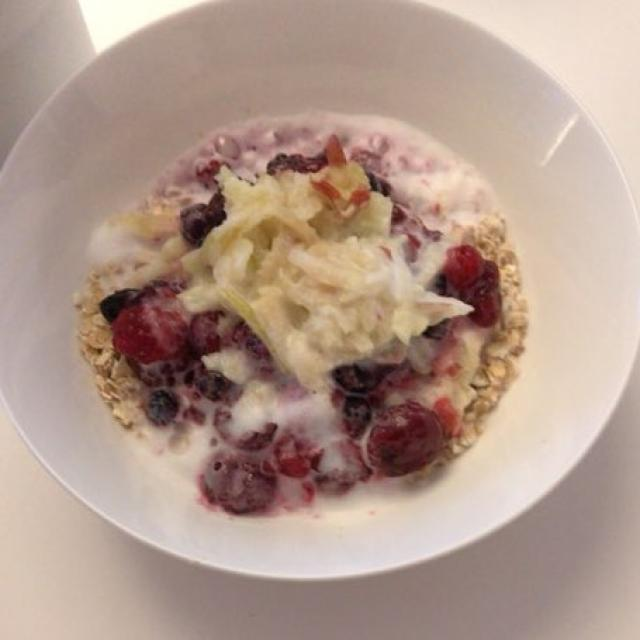apple: (175, 158, 469, 374)
berries: (105, 164, 501, 506)
